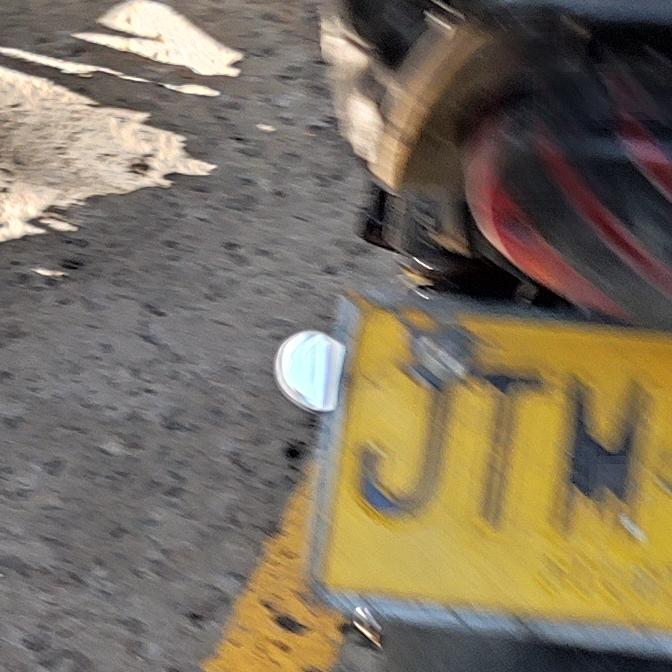plates: (305, 304, 672, 646)
